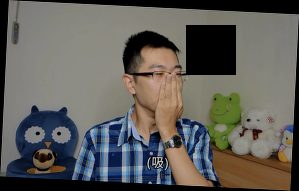with_mask: (135, 62, 184, 115)
